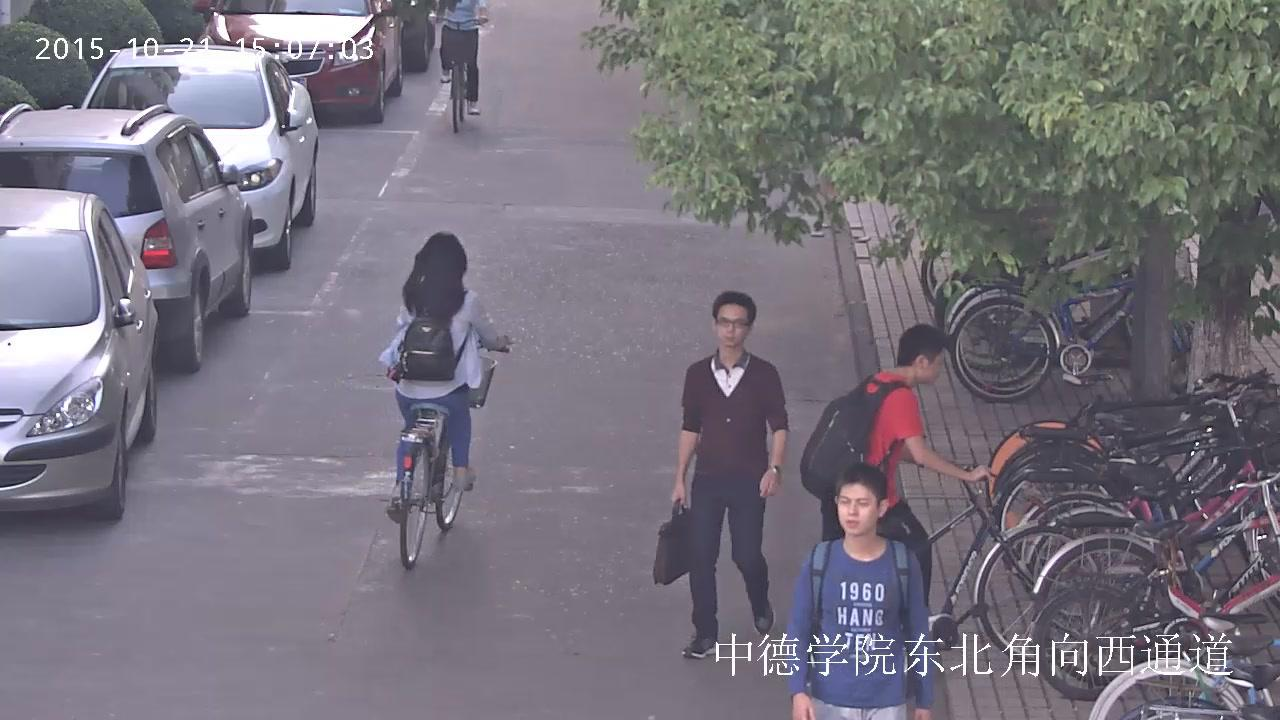person: (801, 321, 1104, 662), (800, 323, 989, 625), (652, 290, 790, 659), (378, 231, 512, 570), (378, 232, 511, 525), (785, 462, 935, 720), (432, 0, 487, 133), (433, 0, 487, 116)
